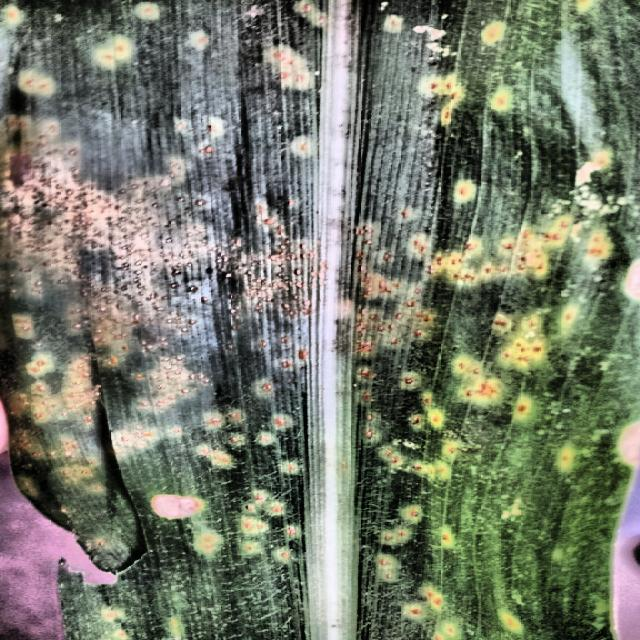common_rust: (15, 5, 607, 640)
